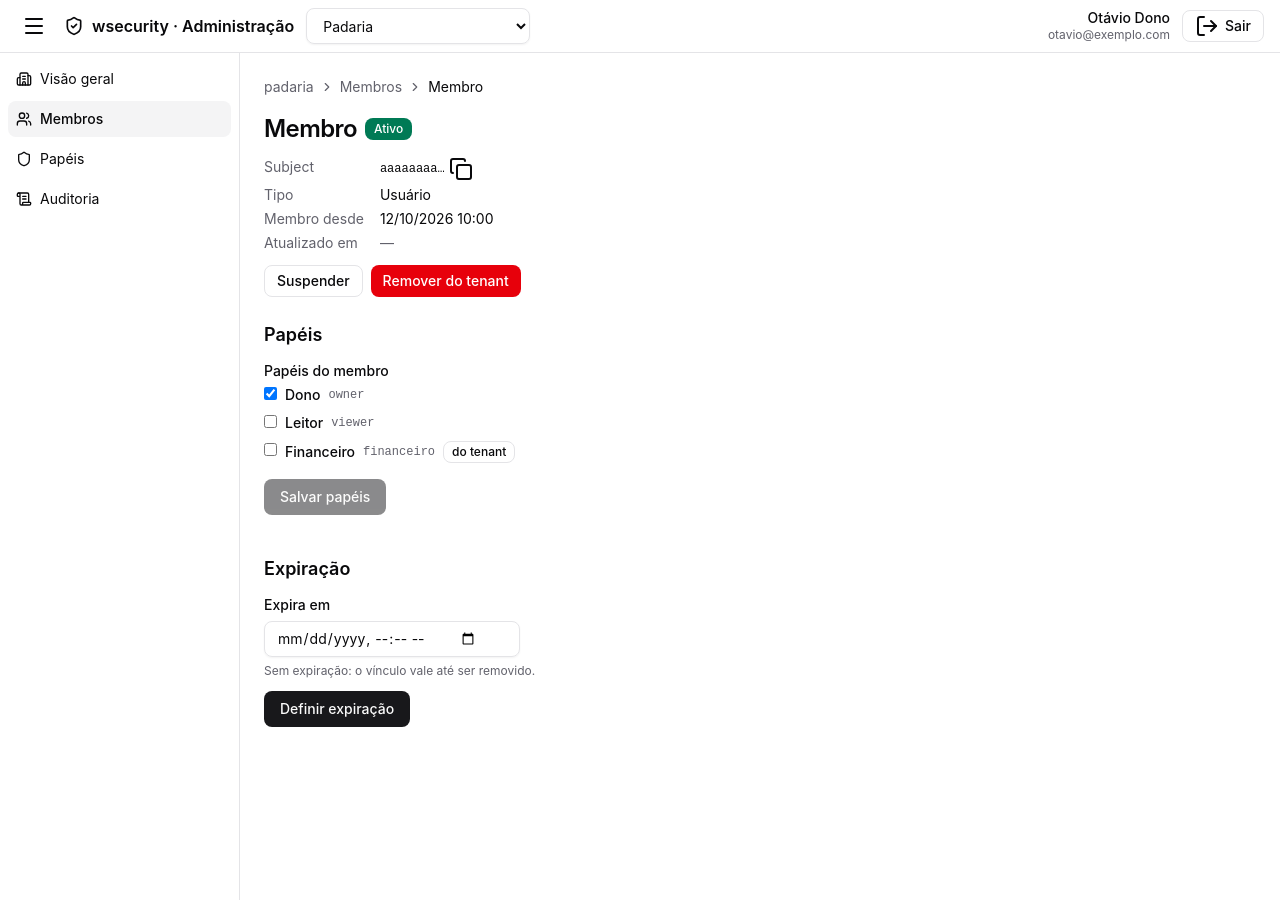
detalhe do membro › 412 na troca de papéis oferece recarregar
The image size is (1280, 900).
Click the checkbox labelled "Leitor viewer". click: (270, 422)
box: [264,415,277,428]
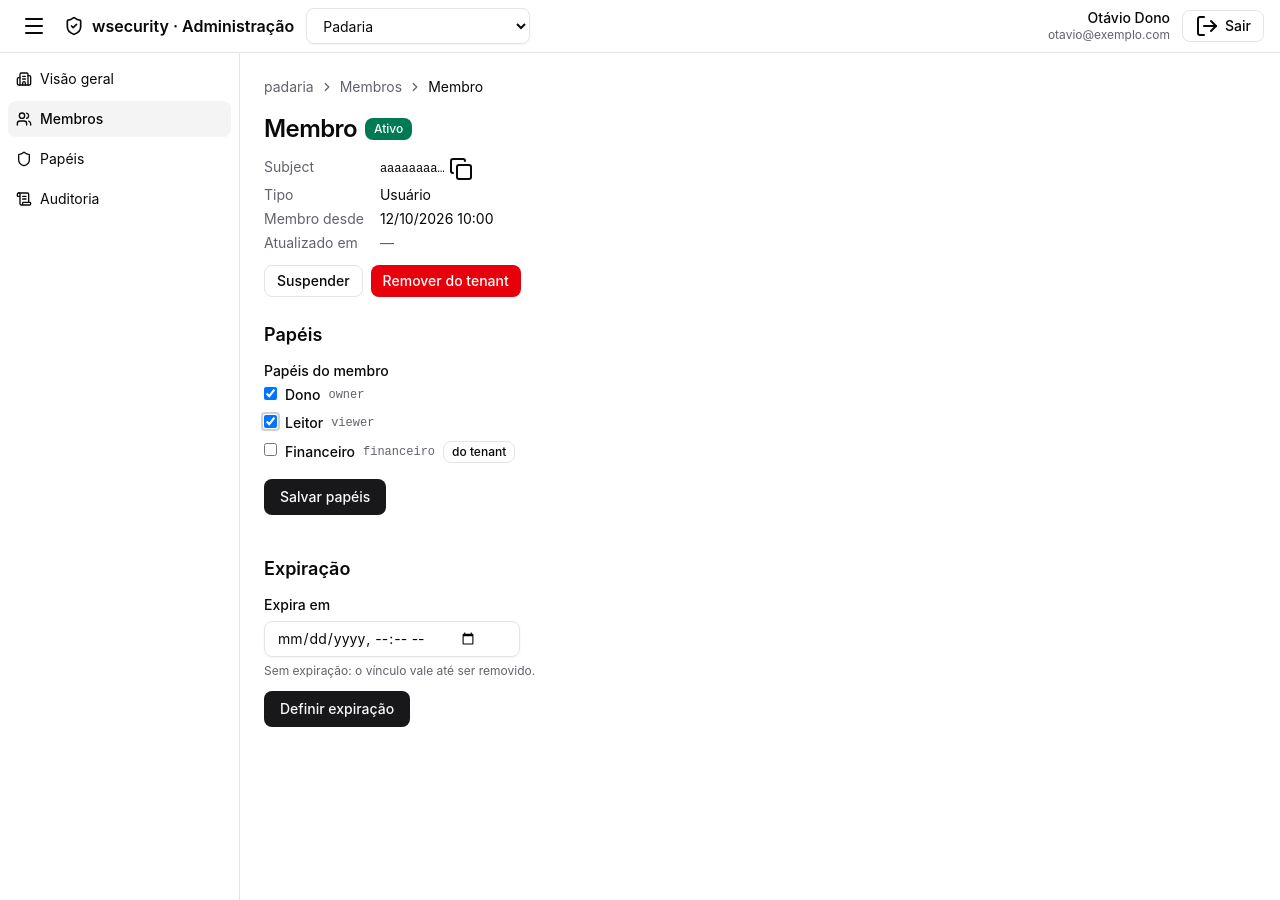
Click the button "Salvar papéis". click: (325, 497)
box: [264,479,386,515]
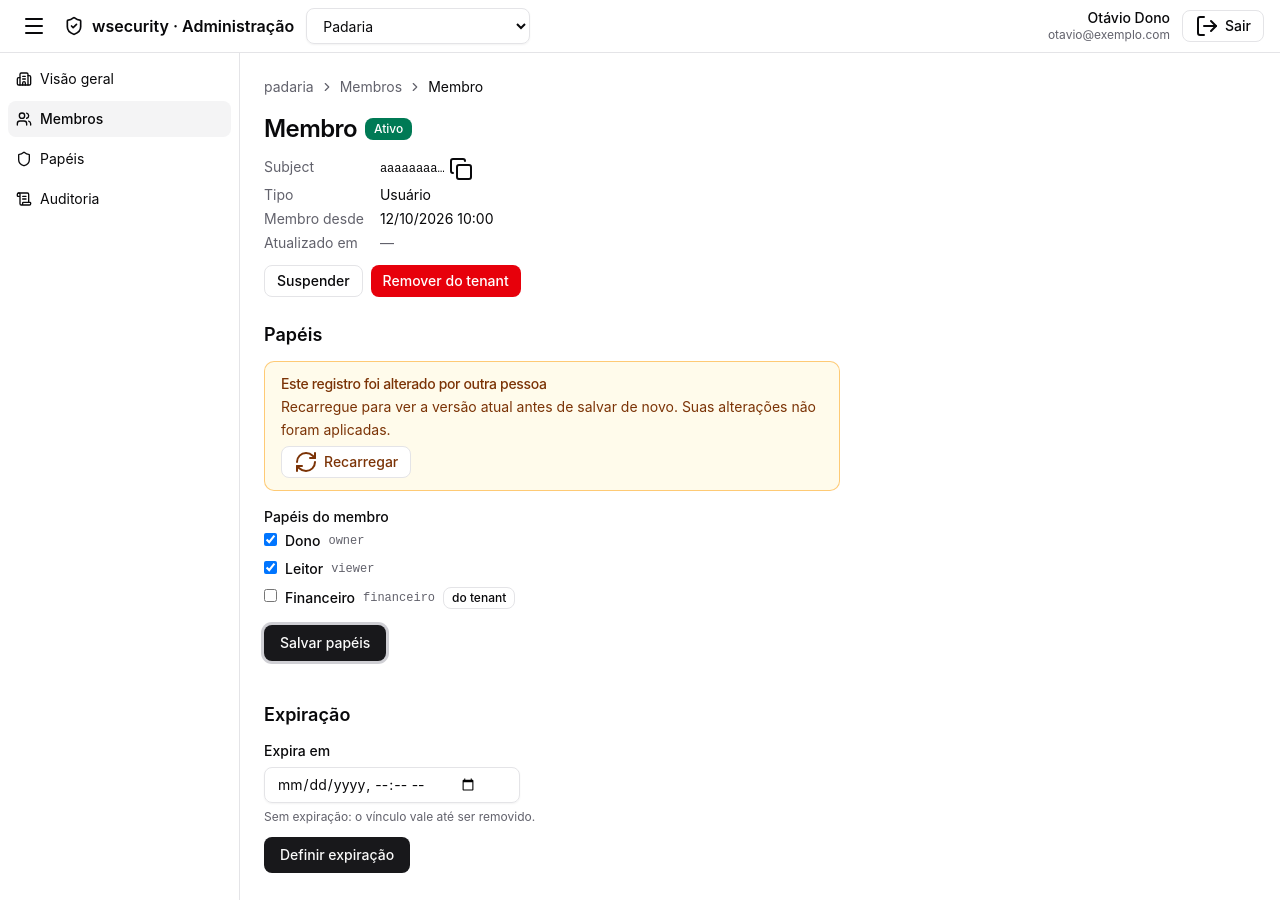
Check: the text "Este registro foi alterado por outra pessoa" is shown, box [281,375,546,392]
